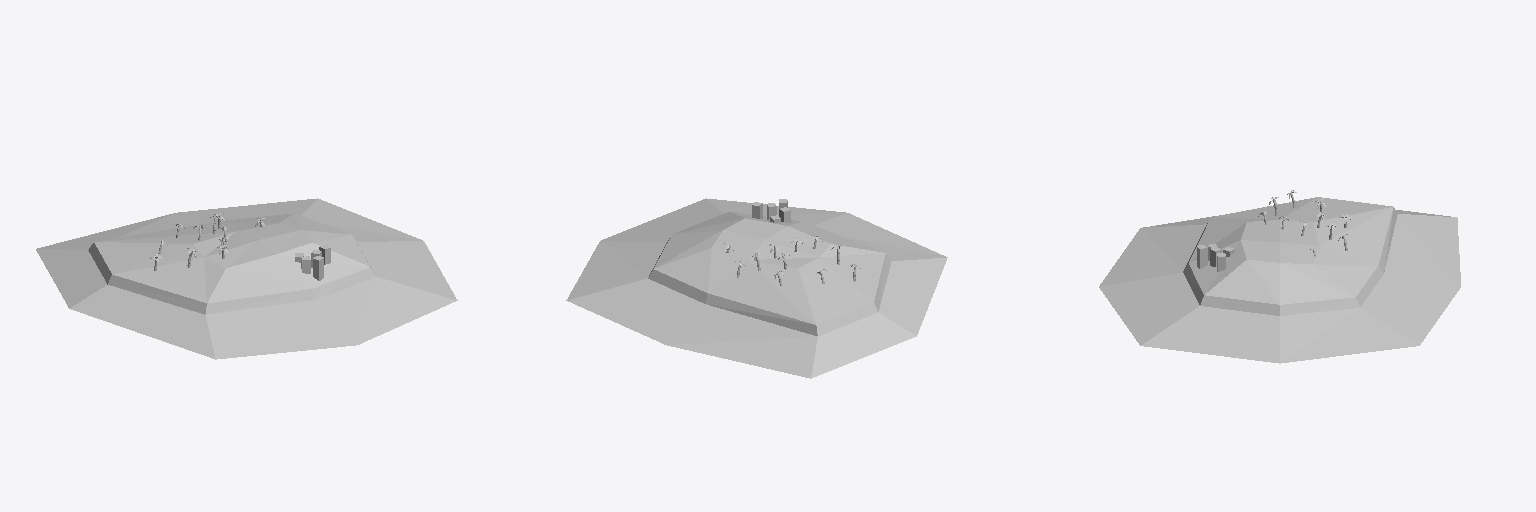
The model's file is placeholderisland.obj.
The picture shows the model from 3 angles: view 1: azimuth 30°, elevation 25°; view 2: azimuth 150°, elevation 25°; view 3: azimuth 270°, elevation 25°; orthographic projection.
Parts seen in each view (by area): view 1: Cube; view 2: Cube; view 3: Cube.
Part boxes in pixels (x1,y1,x2,y2): Cube: (36, 198, 457, 359); Cube: (566, 198, 947, 378); Cube: (1099, 197, 1460, 363).
Size of the model in its own units: 25.79 by 3.77 by 24.12.